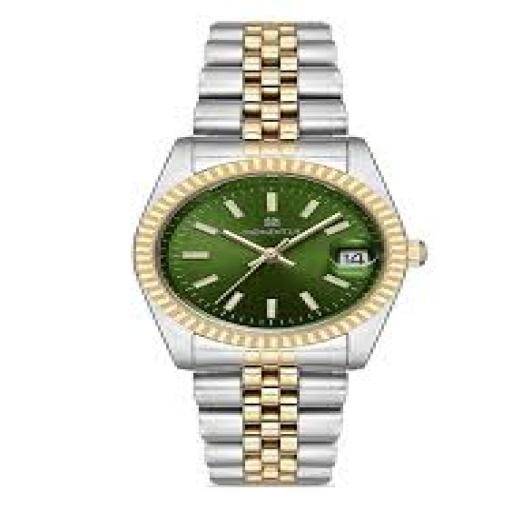KolSaati: (78, 6, 460, 502)
